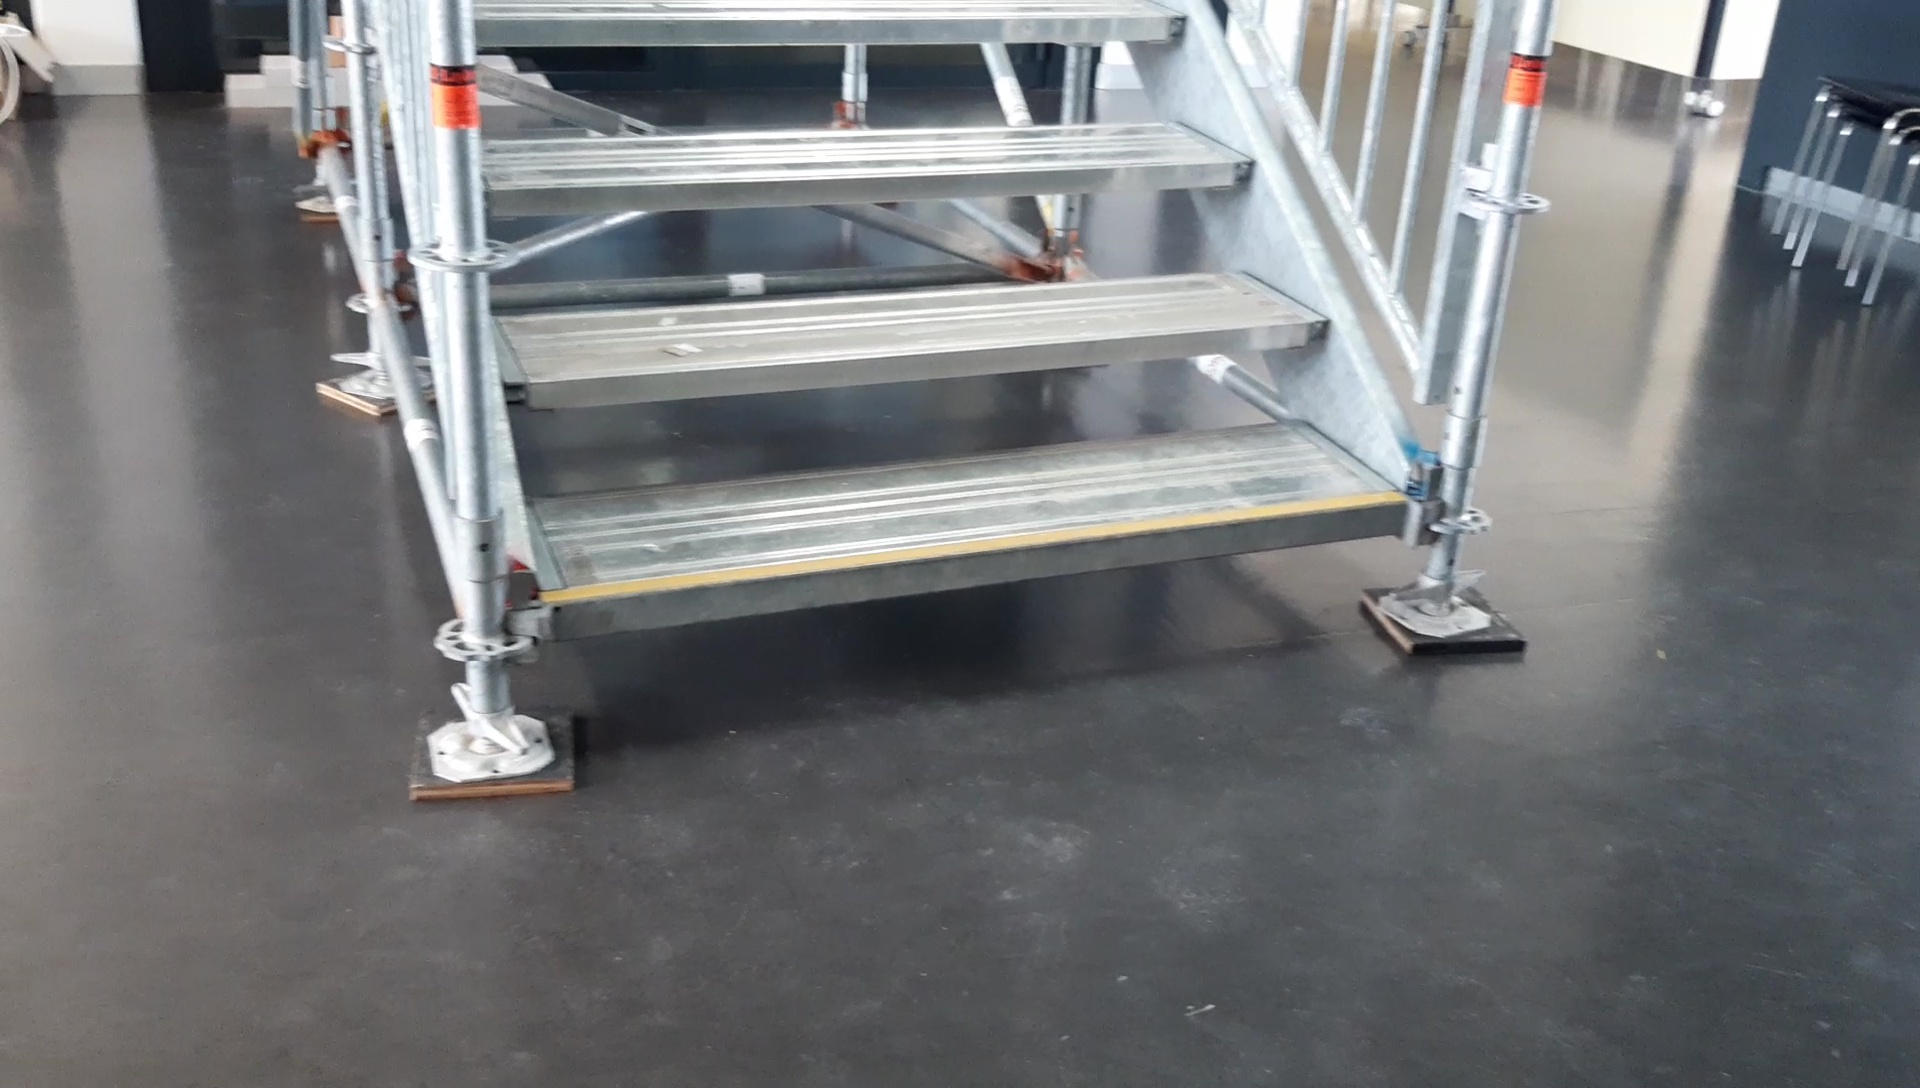edge: (553, 497, 1404, 642), (502, 318, 1328, 410), (483, 158, 1253, 215), (472, 13, 1188, 47)
stairs: (407, 5, 1527, 801)
